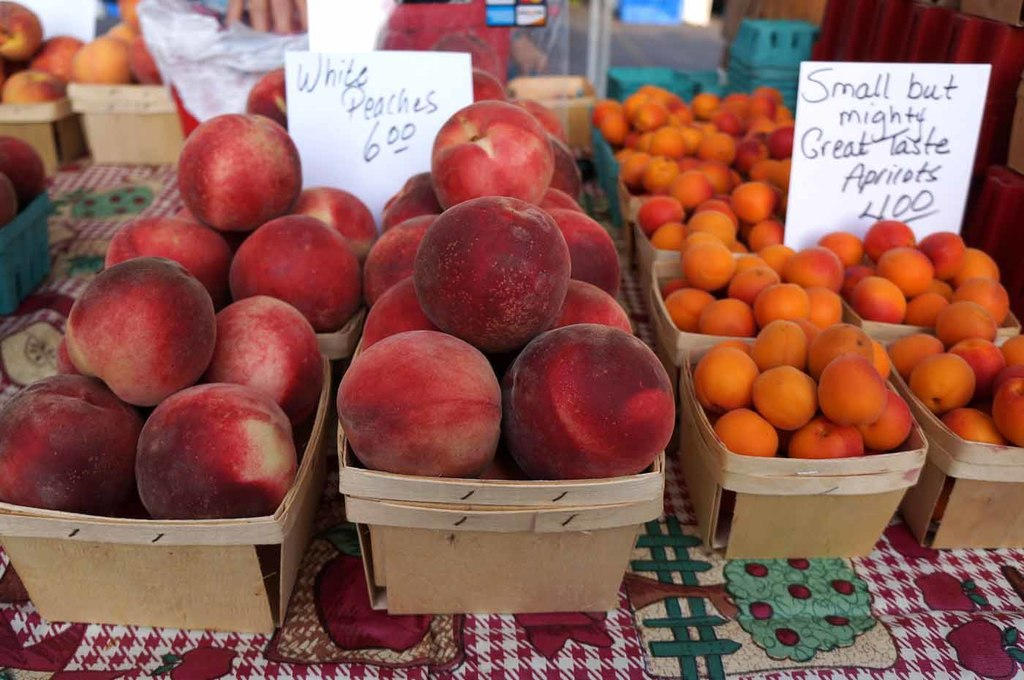Apple: (0, 33, 679, 519), (65, 250, 216, 401), (158, 115, 308, 239), (0, 0, 161, 108), (0, 136, 49, 205), (0, 172, 21, 229)
